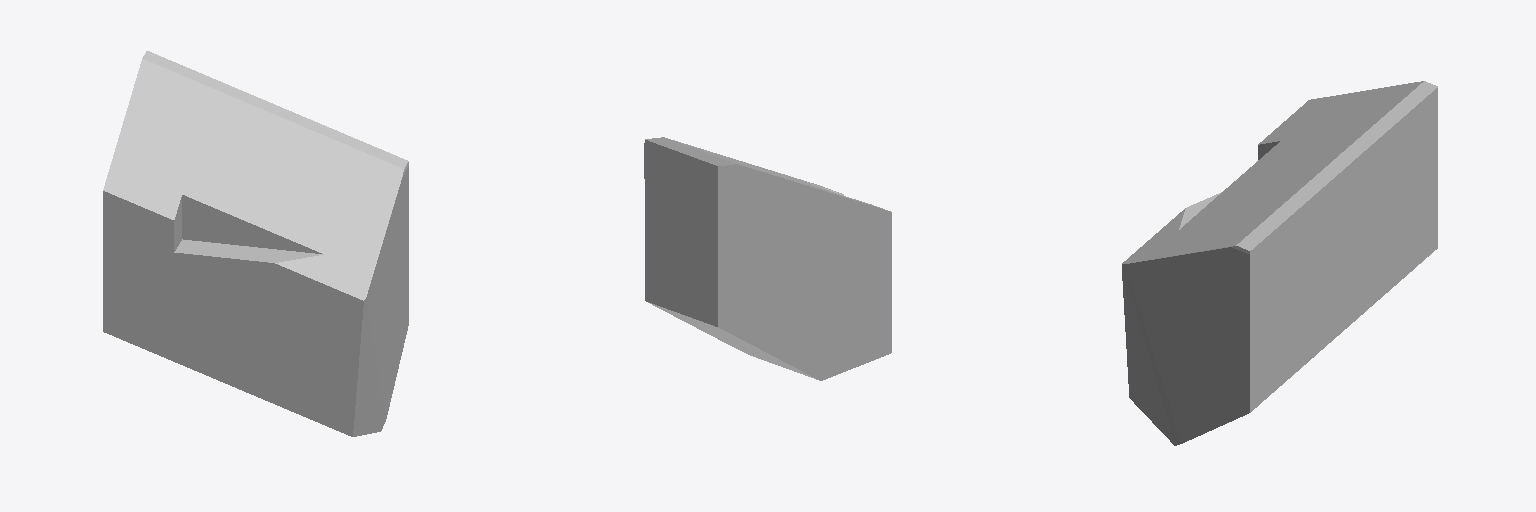
The model's file is li-fang-ti-.001_cell.071.obj.
3 views of the same model, side by side, from view 1: azimuth 30°, elevation 25°; view 2: azimuth 150°, elevation 25°; view 3: azimuth 270°, elevation 25° (orthographic).
Visible parts, largest first — view 1: 立方体.001_cell.071; view 2: 立方体.001_cell.071; view 3: 立方体.001_cell.071.
Part boxes in pixels (x1,y1,x2,y2): 立方体.001_cell.071: (103,51,408,436); 立方体.001_cell.071: (644,137,891,380); 立方体.001_cell.071: (1122,81,1437,445).
Size of the model in its own units: 0.596 by 0.6367 by 0.5908.